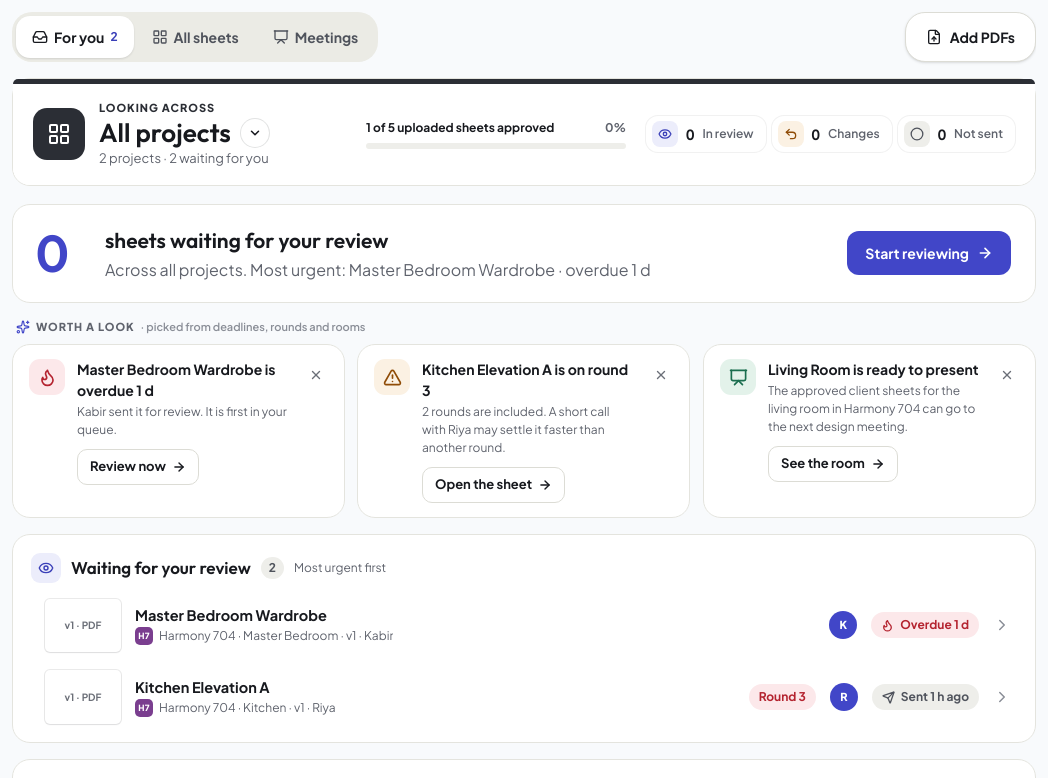
Design Desk › lists every project as a tile, and searches sheets across them
Click the tab "All sheets" at (195, 37), box [136,16,255,58]
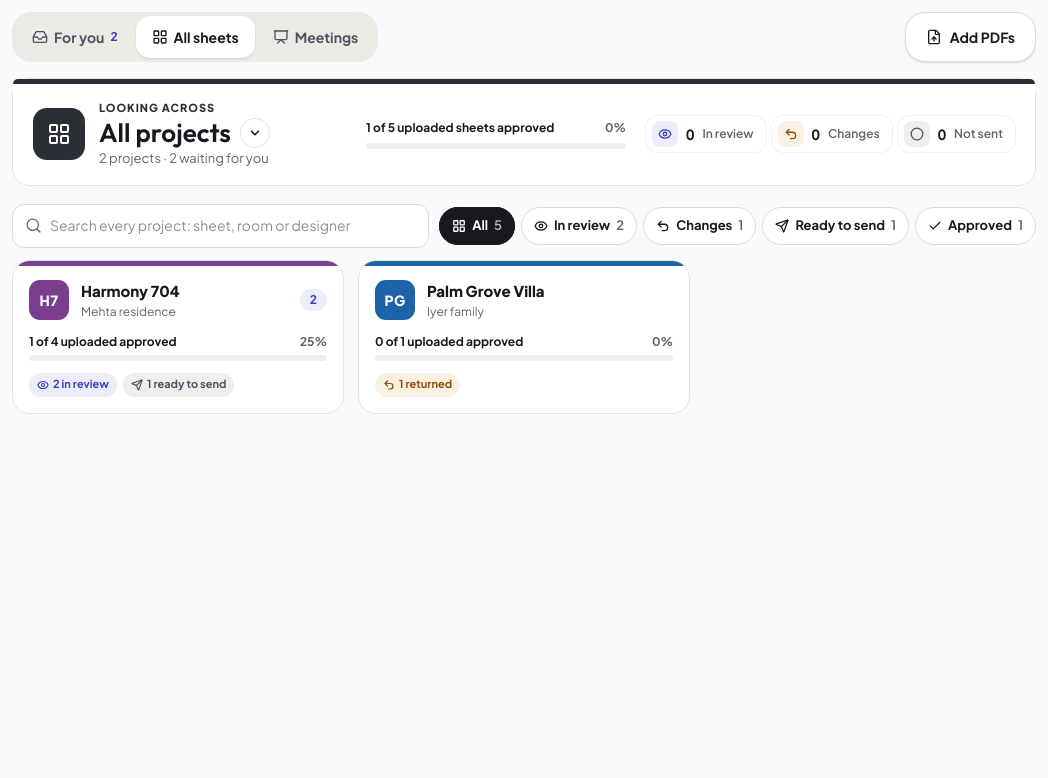
Expected: the button with aria-label "Open Harmony 704" is shown, [12,260,344,413]
Expected: the button with aria-label "Open Palm Grove Villa" is shown, [358,260,690,413]
Type "wardrobe" into the field named "Search sheets" at (233, 226), box [50,215,416,236]
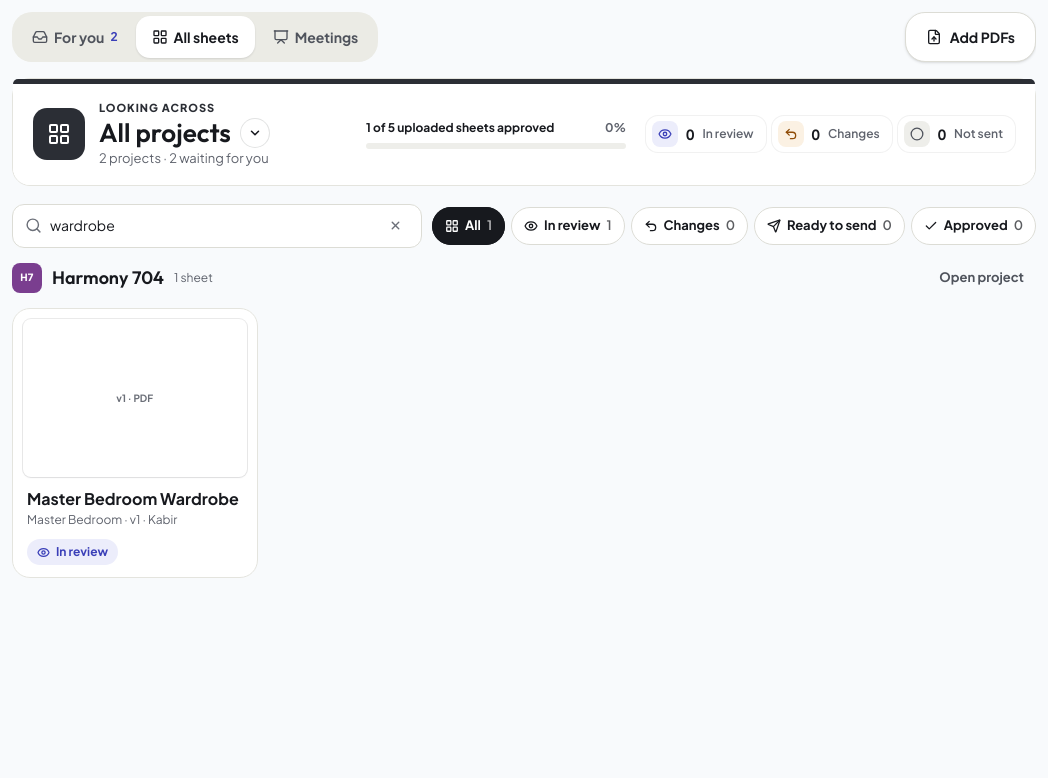
Expected: the button with aria-label "Open Master Bedroom Wardrobe" is shown, [12,308,258,578]
